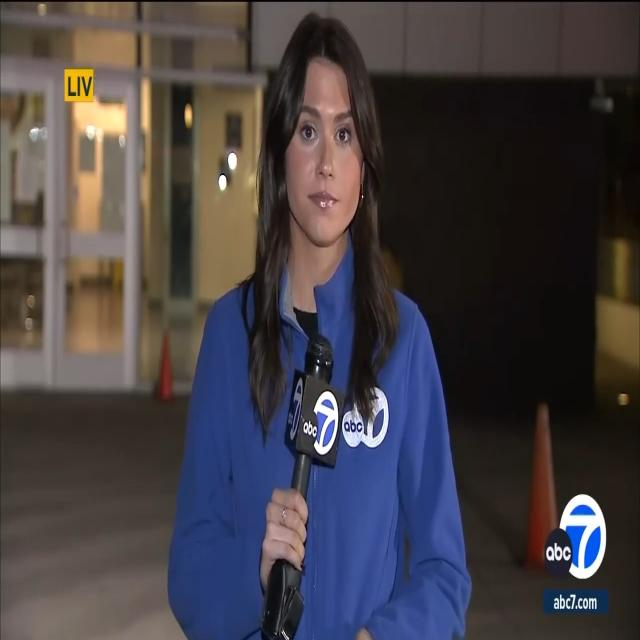microphone: (259, 324, 343, 640)
